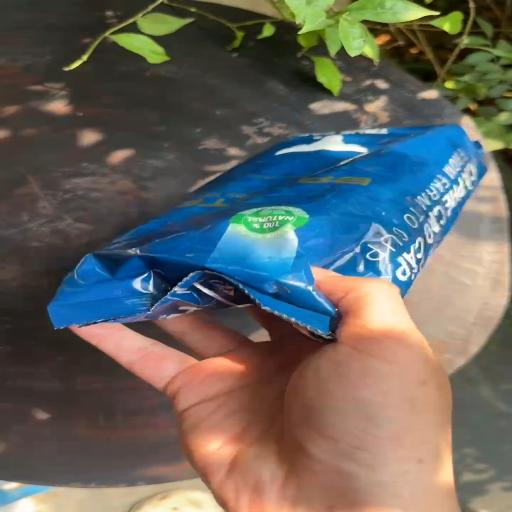cafe_hat: (48, 125, 486, 340)
